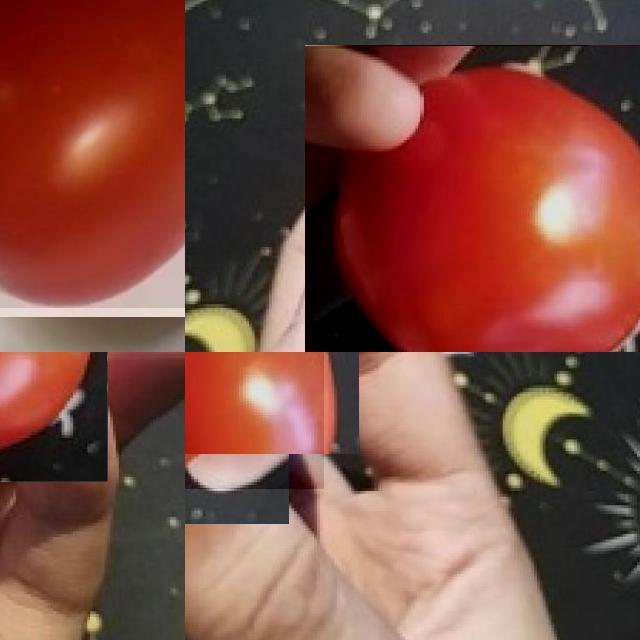Fresh Tomato: (305, 45, 640, 352), (0, 0, 185, 308), (0, 352, 107, 481)
